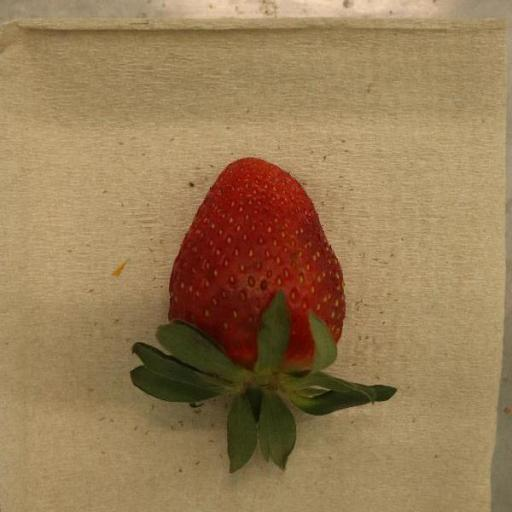Strawberry: (129, 158, 397, 475)
